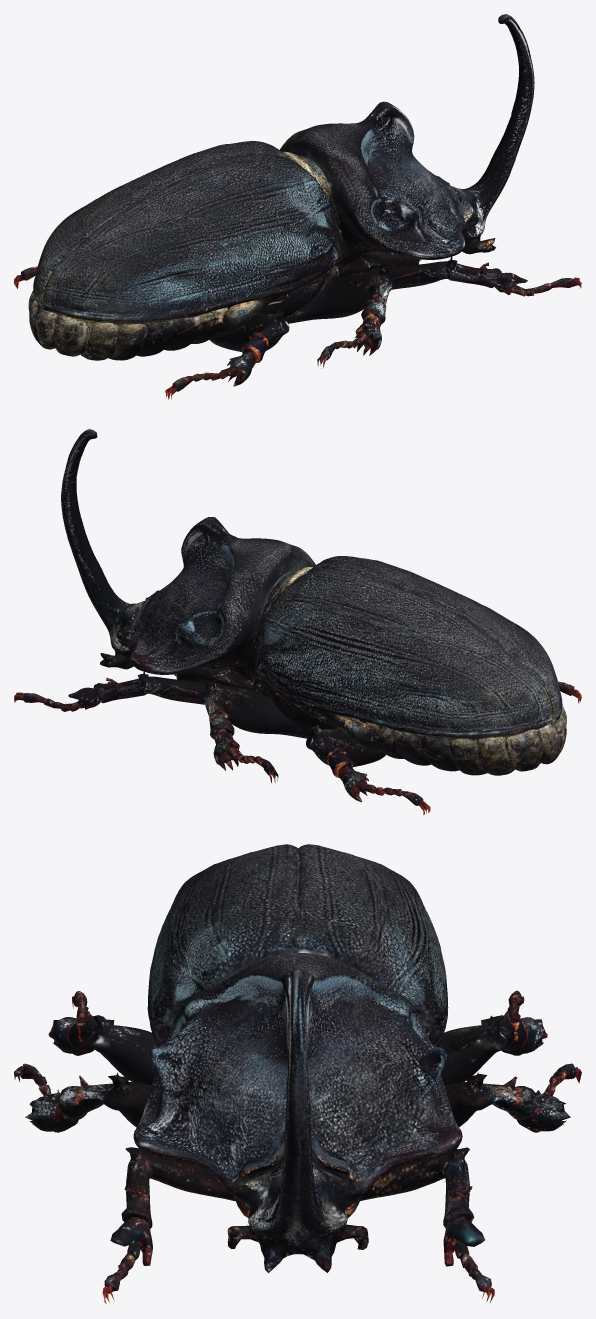
Rendered from 巨人柱.glb.
The picture shows the model from 3 angles, top to bottom: view 1: azimuth 30°, elevation 25°; view 2: azimuth 150°, elevation 25°; view 3: azimuth 270°, elevation 25°; orthographic projection. The views are drawn at different scales.
Parts seen in each view (by area): view 1: tripo_node_66ca04aa-0ee5-4ad7-97f9-0081f4c1f35b; view 2: tripo_node_66ca04aa-0ee5-4ad7-97f9-0081f4c1f35b; view 3: tripo_node_66ca04aa-0ee5-4ad7-97f9-0081f4c1f35b.
Boxes of the visible parts, x1,y1,x2,y2 form: tripo_node_66ca04aa-0ee5-4ad7-97f9-0081f4c1f35b: (14, 14, 581, 399); tripo_node_66ca04aa-0ee5-4ad7-97f9-0081f4c1f35b: (14, 429, 581, 815); tripo_node_66ca04aa-0ee5-4ad7-97f9-0081f4c1f35b: (14, 844, 581, 1303).
Bounding box in the file's own units: 0.9792 × 0.4477 × 0.6688.
Materials: 1 (1 with a texture image).
